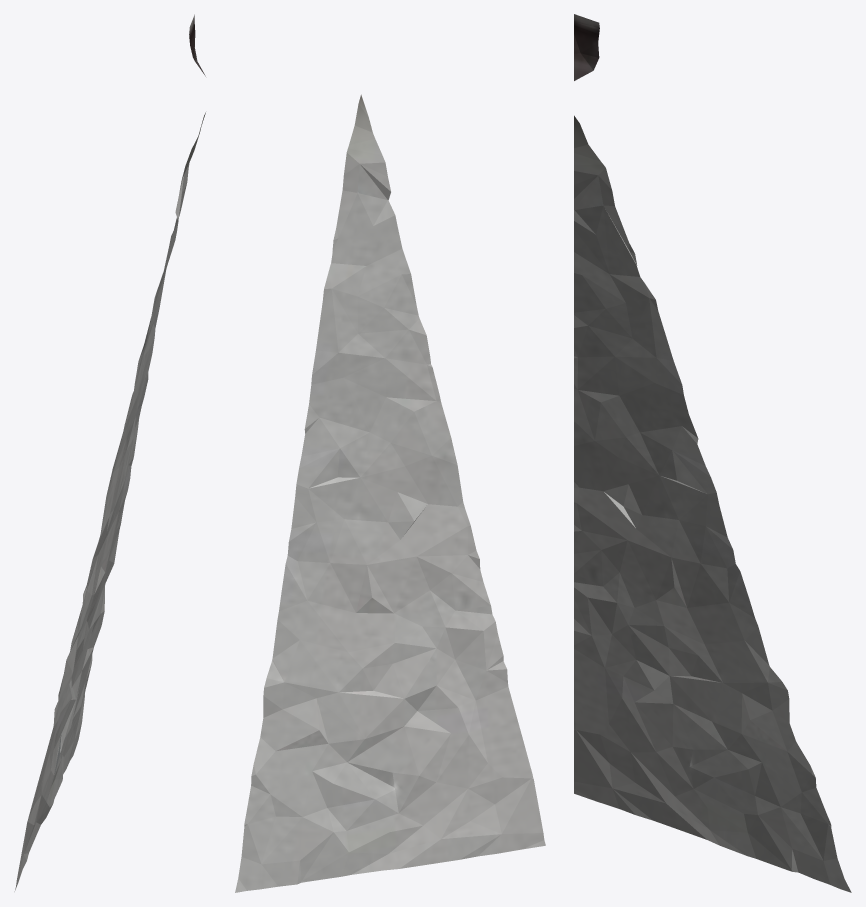
3 views of the same model, side by side, from view 1: azimuth 30°, elevation 25°; view 2: azimuth 150°, elevation 25°; view 3: azimuth 270°, elevation 25° (orthographic). The views are drawn at different scales.
Bounding box in the file's own units: 0.2048 × 0.8374 × 0.2422.
1 material, 1 textured.
